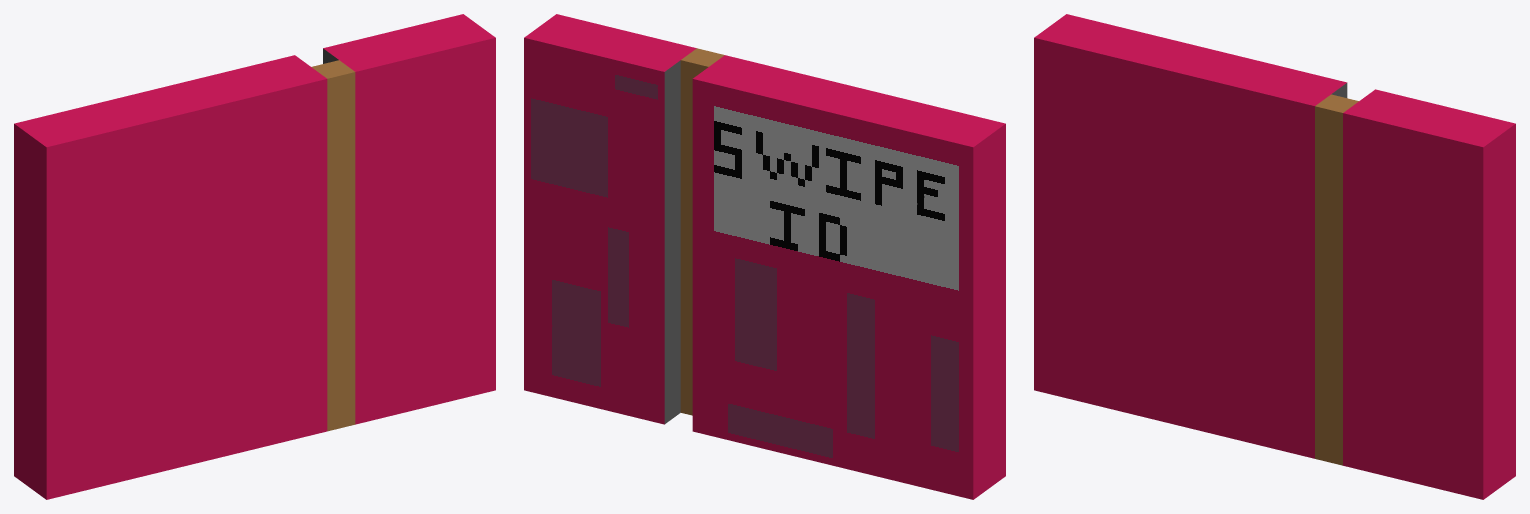
File: cardswipe.gltf
The picture shows the model from 3 angles, left to right: view 1: azimuth 30°, elevation 25°; view 2: azimuth 150°, elevation 25°; view 3: azimuth 330°, elevation 25°; orthographic projection.
Visible parts, largest first — view 1: cube (×3); view 2: cube (×3); view 3: cube (×3).
Part boxes in pixels (x1,y1,x2,y2): cube (×3): [14, 14, 495, 499]; cube (×3): [524, 14, 1005, 499]; cube (×3): [1034, 14, 1515, 499].
Size of the model in its own units: 1 by 0.75 by 0.125.
1 material, 1 textured.
